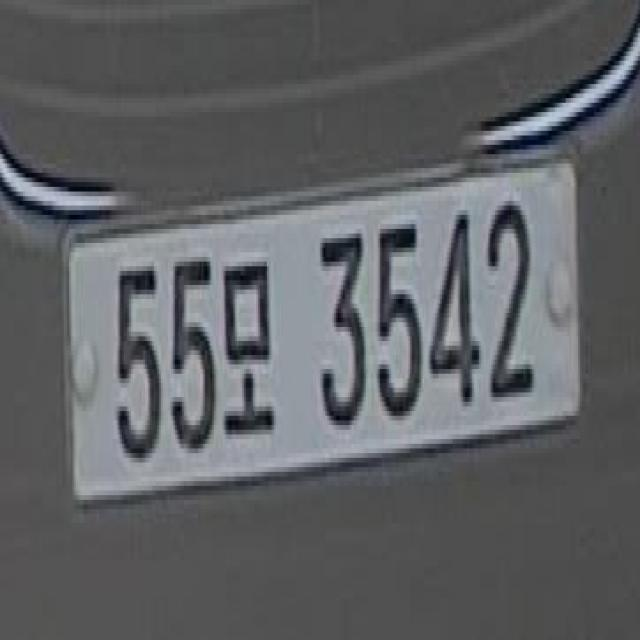2: (482, 192, 534, 404)
3: (316, 221, 366, 431)
4: (428, 196, 480, 417)
5: (110, 248, 162, 461), (375, 211, 425, 427), (169, 241, 217, 459)
license_plate: (50, 126, 597, 552)
mo: (221, 234, 277, 450)
